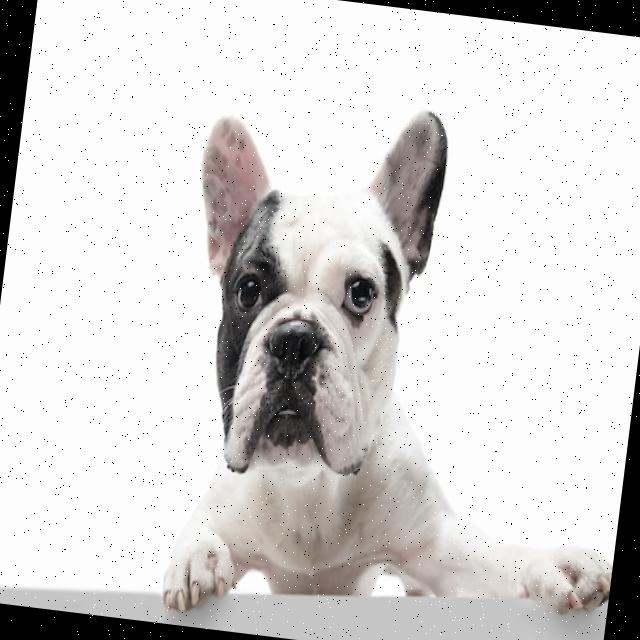Dog: (145, 82, 640, 640)
